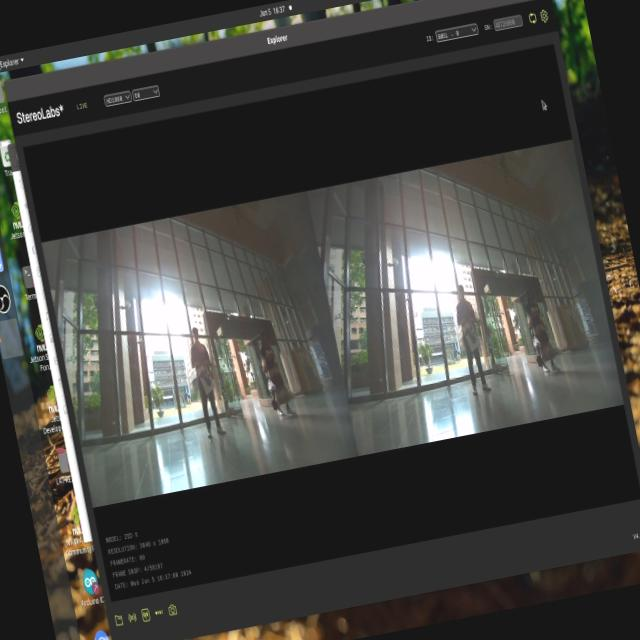blue: (196, 364, 214, 391), (460, 318, 480, 341)
